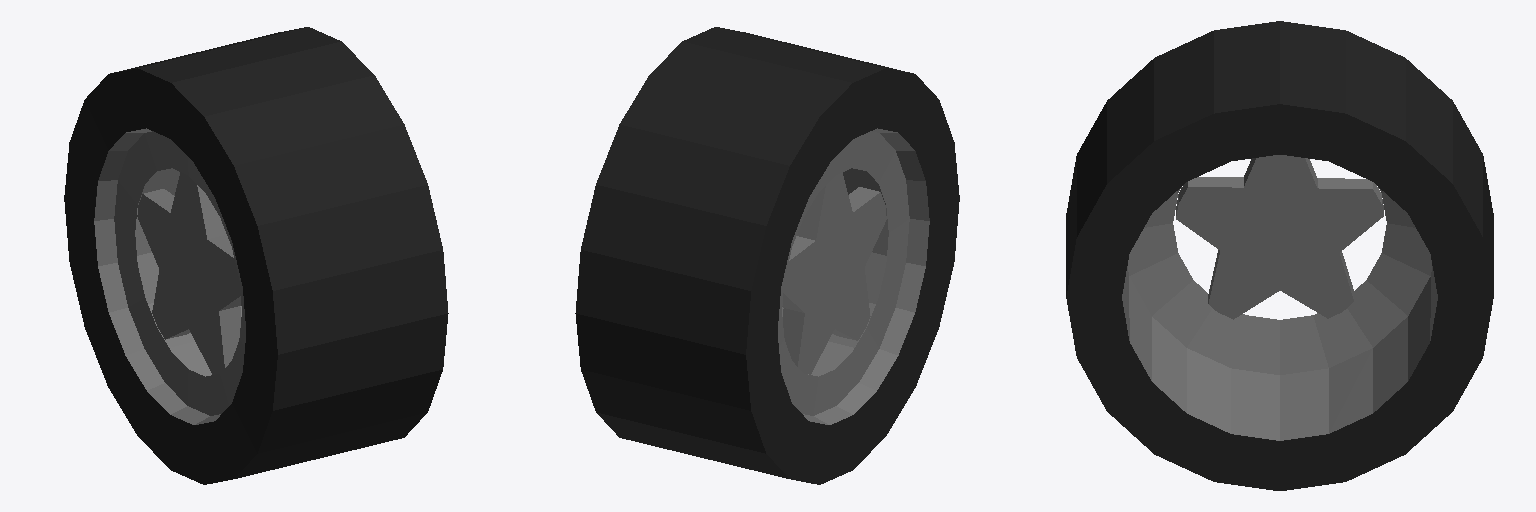
3 renders of one model, left to right at view 1: azimuth 30°, elevation 25°; view 2: azimuth 150°, elevation 25°; view 3: azimuth 270°, elevation 25°, orthographic.
Parts seen in each view (by area): view 1: F40tire_front_right, F40tire_front_right_chrom; view 2: F40tire_front_right, F40tire_front_right_chrom; view 3: F40tire_front_right, F40tire_front_right_chrom.
Boxes of the visible parts, x1,y1,x2,y2 form: F40tire_front_right: [64, 27, 448, 484]; F40tire_front_right_chrom: [94, 128, 245, 424]; F40tire_front_right: [575, 27, 959, 484]; F40tire_front_right_chrom: [778, 128, 929, 424]; F40tire_front_right: [1066, 21, 1493, 490]; F40tire_front_right_chrom: [1122, 155, 1437, 440].
Size of the model in its own units: 0.7561 by 1.63 by 1.63.
Materials: 2 (2 with a texture image).